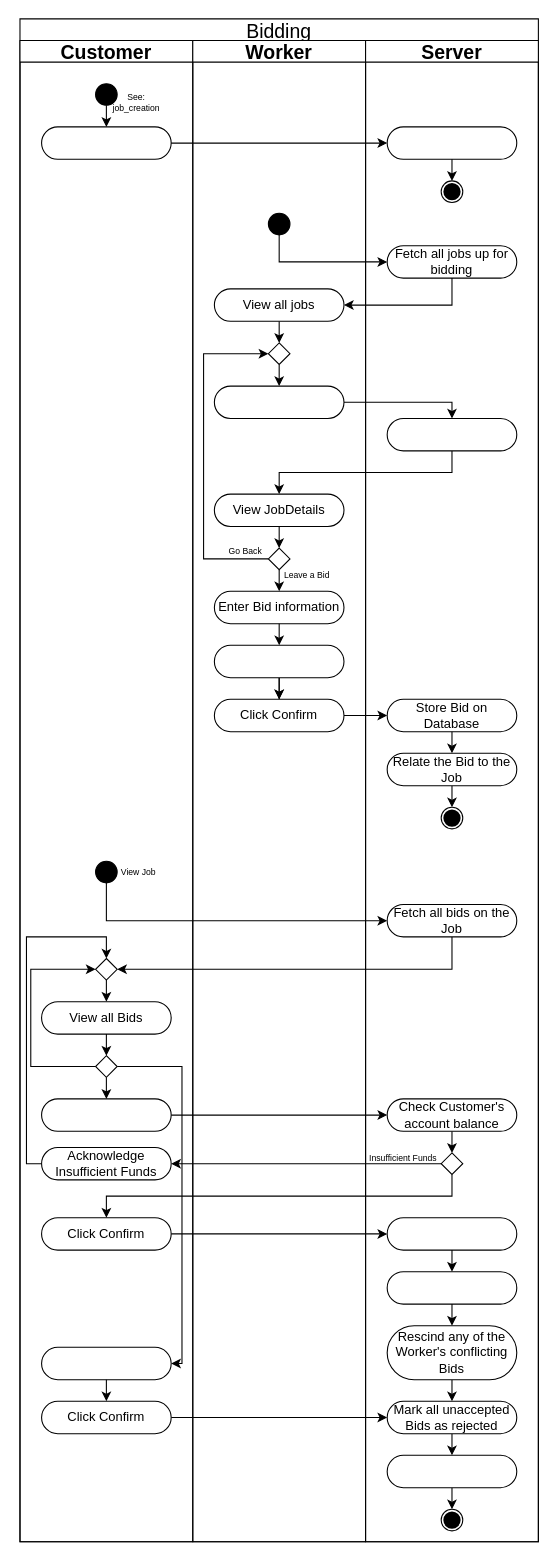
Some shapes in this 557 by 1561 pixel diagram are drawn without their labels. Each missing label, with the centre of its shape:
"Accept a Bid" goes at [105,1114].
"Click Submit" goes at [278,661].
"CreateJob" goes at [105,142].
"Fetch non-sensitive JobDetails" goes at [451,434].
"Mark Bid as accepted" goes at [451,1287].
"Mark Job as not up for bidding" goes at [451,1471].
"Mark Job as up for bidding" goes at [451,142].
"Pick a job to view more details on" goes at [278,401].
"Reject all Bids" goes at [105,1363].
"Remove money from Customer account" goes at [451,1233].
